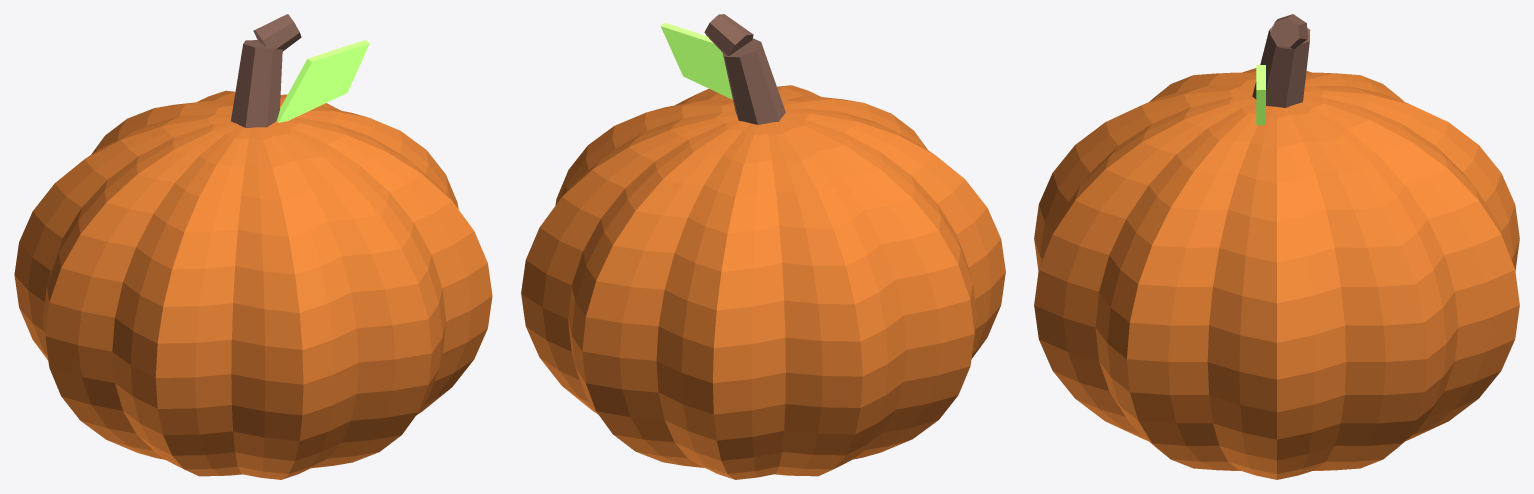
The model's file is harvest-pumpkin.glb.
3 renders of one model, left to right at view 1: azimuth 30°, elevation 25°; view 2: azimuth 150°, elevation 25°; view 3: azimuth 270°, elevation 25°, orthographic. The views are drawn at different scales.
Parts seen in each view (by area): view 1: harvest-pumpkin; view 2: harvest-pumpkin; view 3: harvest-pumpkin.
Boxes of the visible parts, box(x1,y1,x2,y2) form: harvest-pumpkin: box(14, 14, 492, 479); harvest-pumpkin: box(521, 14, 1005, 479); harvest-pumpkin: box(1034, 14, 1519, 479).
Bounding box in the file's own units: 0.9372 × 0.9162 × 0.8913.
